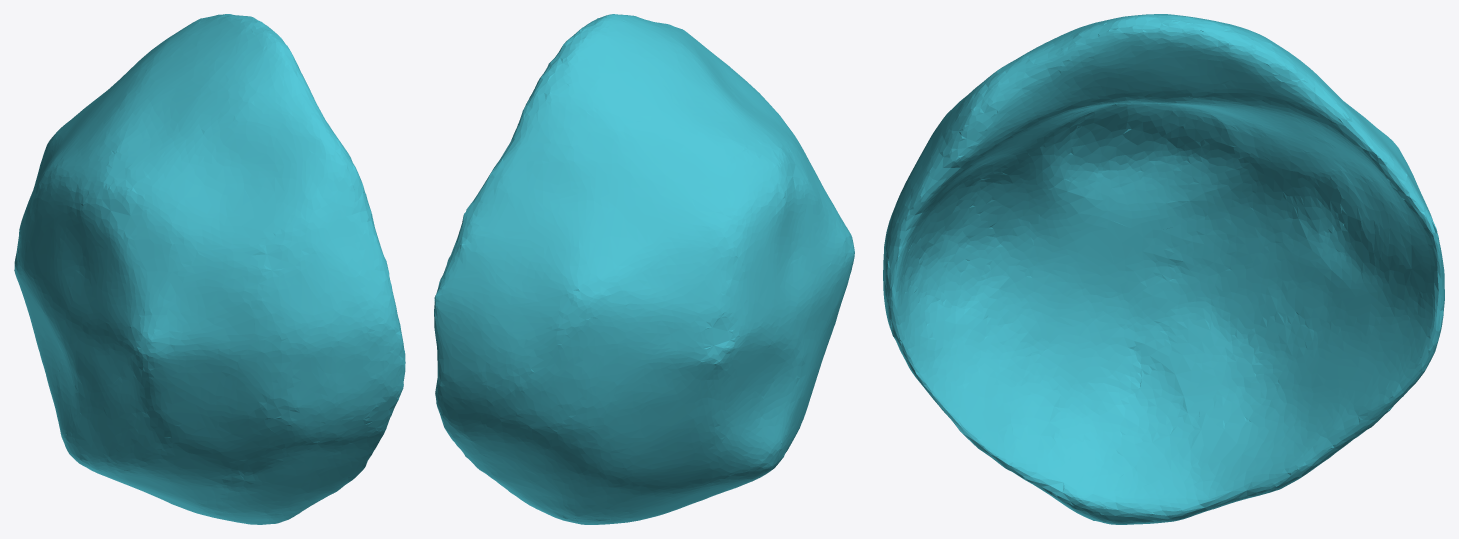
3 renders of one model, left to right at view 1: azimuth 30°, elevation 25°; view 2: azimuth 150°, elevation 25°; view 3: azimuth 270°, elevation 25°, orthographic. The views are drawn at different scales.
Parts seen in each view (by area): view 1: Renderer Node; view 2: Renderer Node; view 3: Renderer Node.
Boxes of the visible parts, x1,y1,x2,y2 form: Renderer Node: (14, 14, 405, 524); Renderer Node: (434, 14, 854, 524); Renderer Node: (883, 14, 1444, 524).
Bounding box in the file's own units: 0.3371 × 0.6715 × 0.6647.
1 material, 1 textured.
